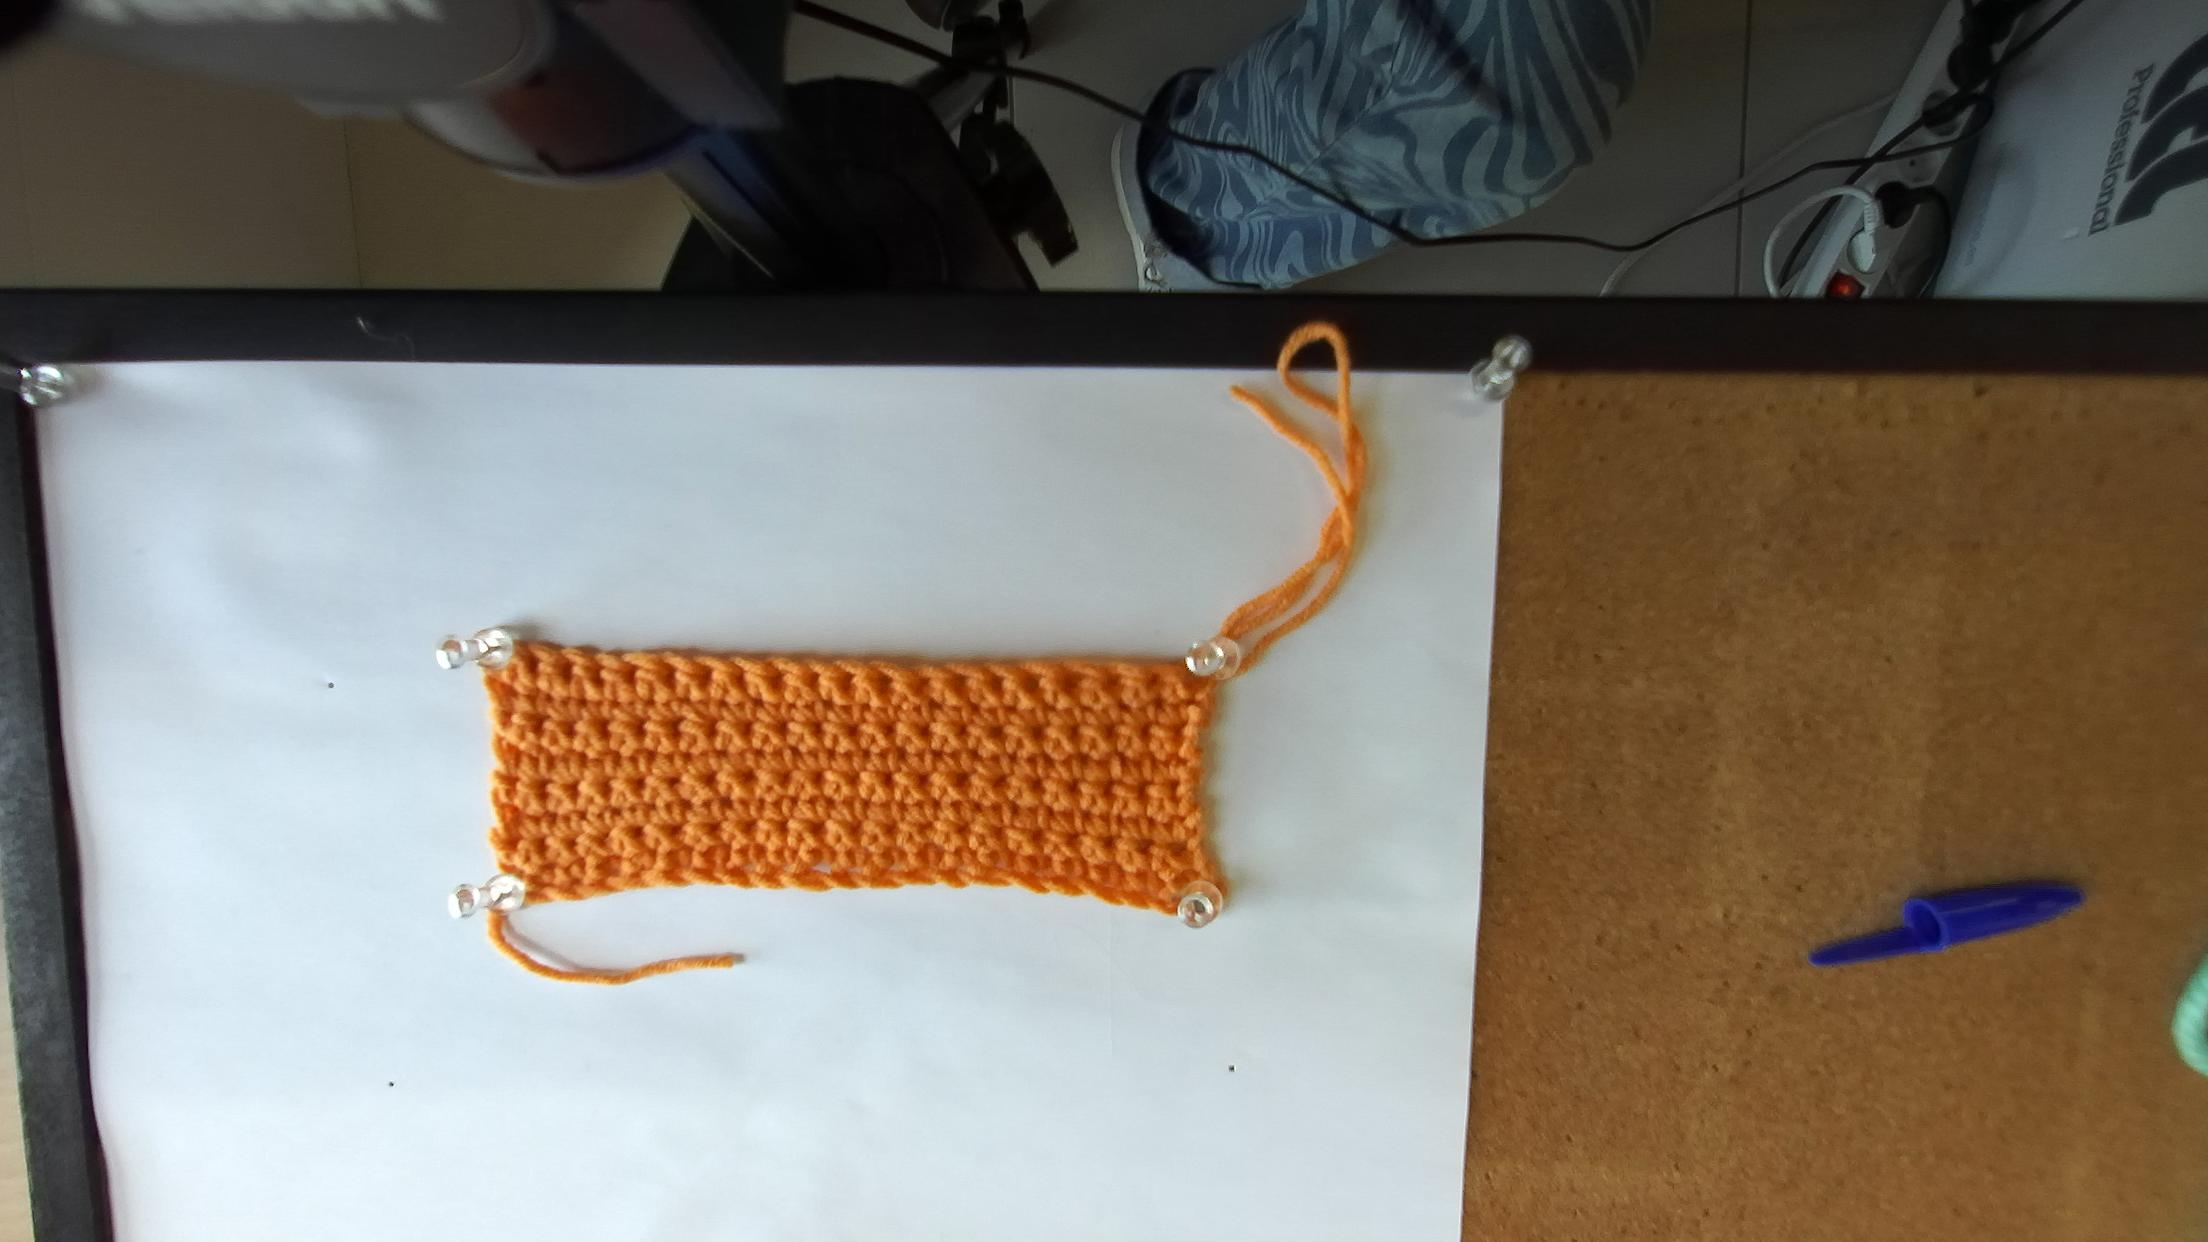hole: (622, 666, 641, 685), (560, 658, 575, 682), (525, 654, 543, 673), (769, 670, 787, 690), (877, 670, 893, 692), (590, 664, 605, 687), (840, 672, 855, 695), (732, 670, 748, 692), (699, 669, 713, 690), (664, 664, 676, 687), (990, 672, 1004, 692), (1024, 675, 1039, 692), (952, 675, 971, 688), (808, 672, 820, 692), (1065, 672, 1080, 687), (1148, 673, 1163, 688), (1107, 673, 1122, 687), (916, 678, 930, 688), (1186, 676, 1198, 687)
swatch: (478, 638, 1233, 927)
